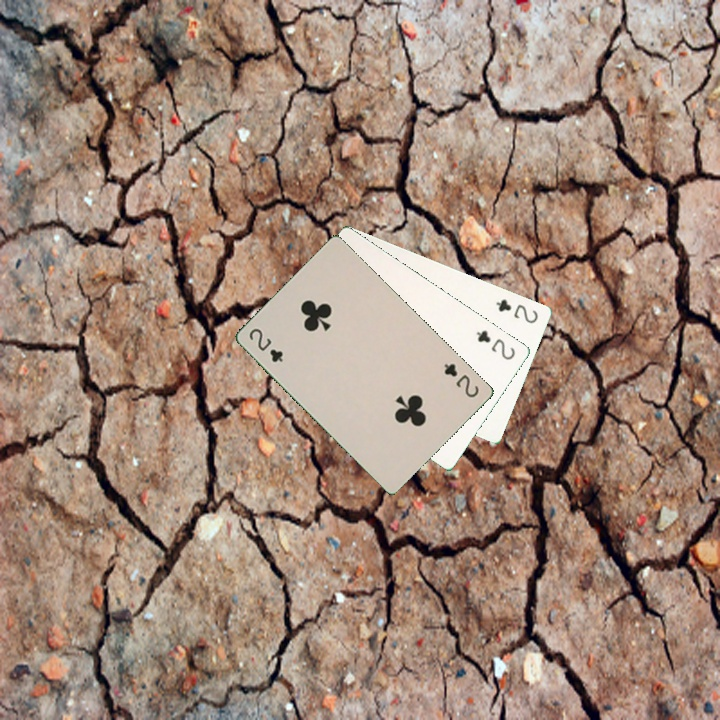2c: (472, 326, 518, 363), (440, 359, 481, 400), (245, 324, 286, 365), (492, 295, 541, 326)
